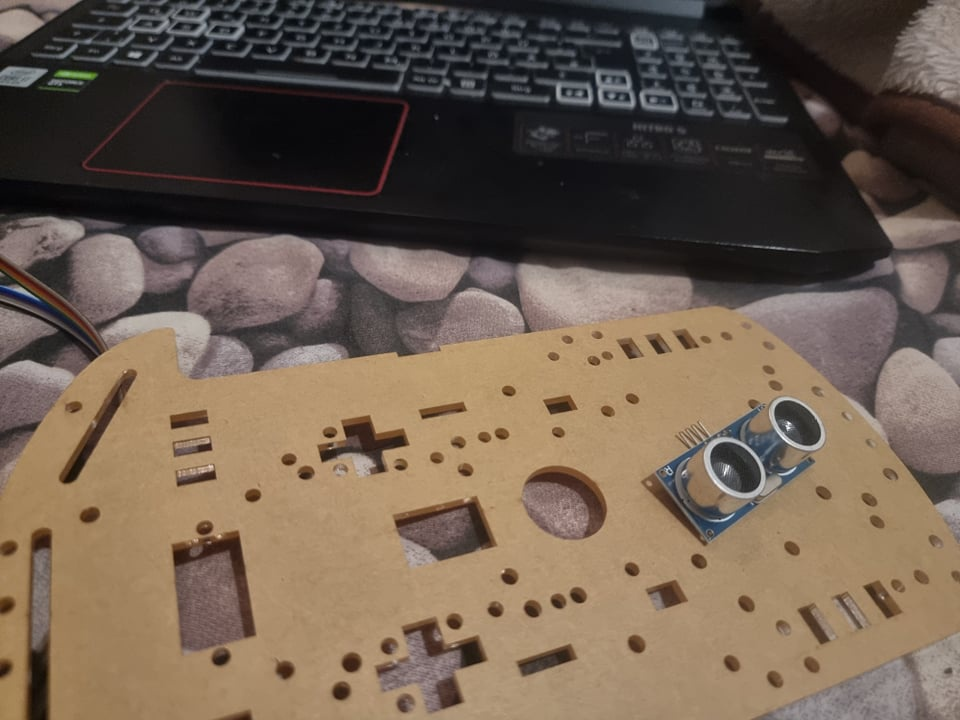SENSOR: (653, 396, 821, 545)
